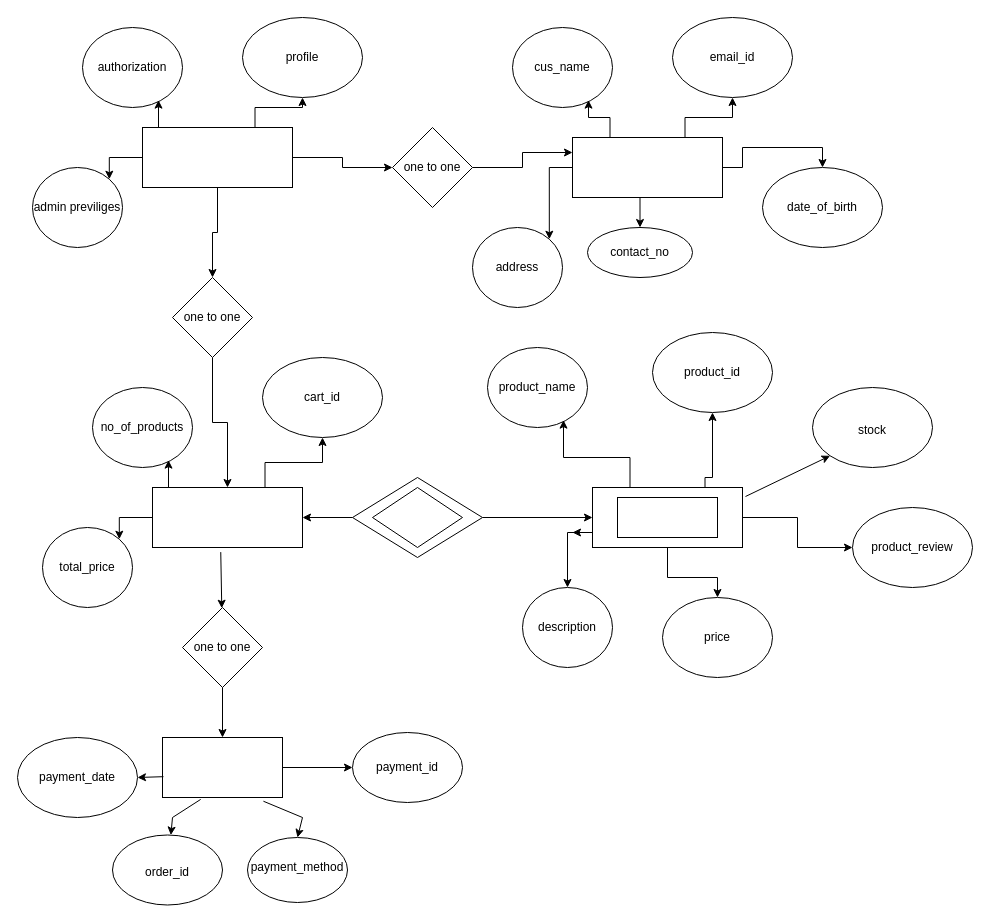
The diagram is 990 pixels wide and 923 high, and some of its shapes have lost their labels. Each missing label, with the box of its shape:
CART: (152, 486, 302, 548)
CPROFILE: (572, 136, 722, 198)
CUSTOMER: (142, 126, 292, 188)
many to many: (372, 486, 462, 548)
payment: (162, 736, 282, 798)
PRODUCTS: (616, 496, 718, 538)
